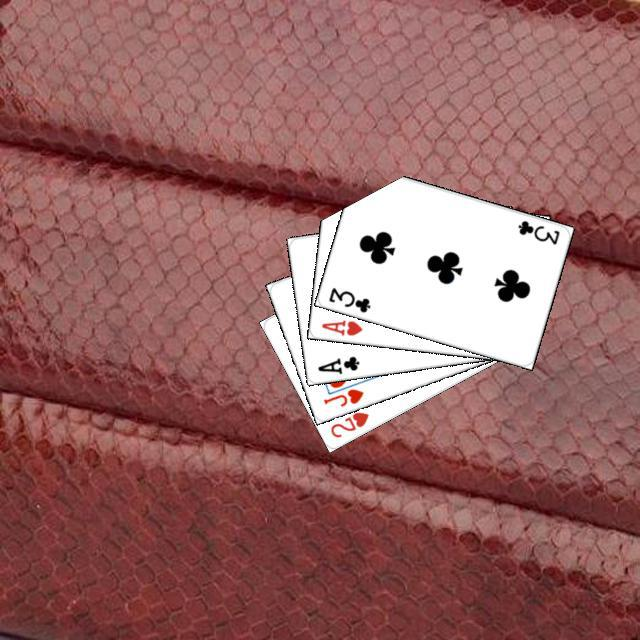2h: (325, 407, 370, 439)
3c: (324, 282, 372, 314), (513, 215, 561, 246)
Ac: (313, 351, 361, 376)
Ah: (317, 315, 364, 337)
Jh: (318, 384, 365, 408)
